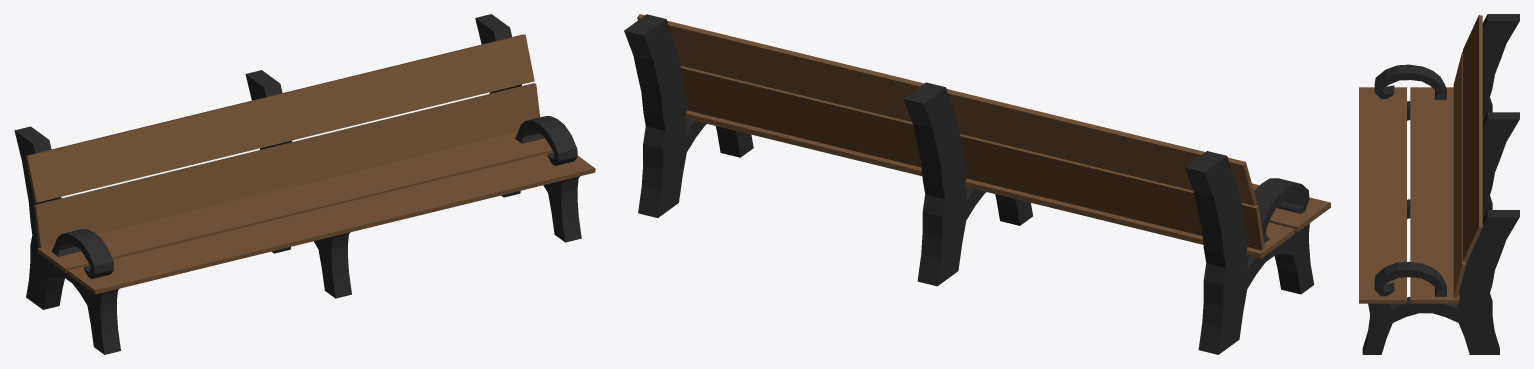
File: D1_BENCH.fbx
3 renders of one model, left to right at view 1: azimuth 30°, elevation 25°; view 2: azimuth 150°, elevation 25°; view 3: azimuth 270°, elevation 25°, orthographic. The views are drawn at different scales.
Visible parts, largest first — view 1: D1_BANCA; view 2: D1_BANCA; view 3: D1_BANCA.
Boxes of the visible parts, <box> form: D1_BANCA: <box>14,14,595,354</box>; D1_BANCA: <box>624,14,1330,354</box>; D1_BANCA: <box>1359,14,1519,354</box>.
Size of the model in its own units: 348 by 105 by 111.
